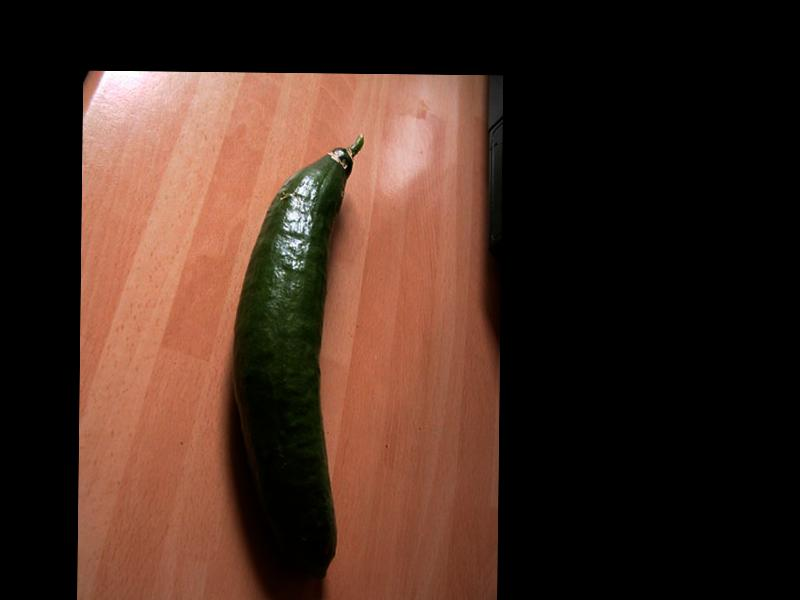Cucumber: (228, 134, 363, 581)
